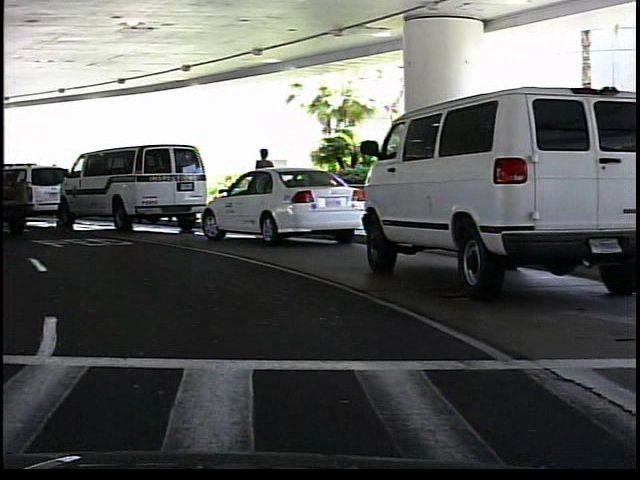person: (251, 144, 279, 223)
